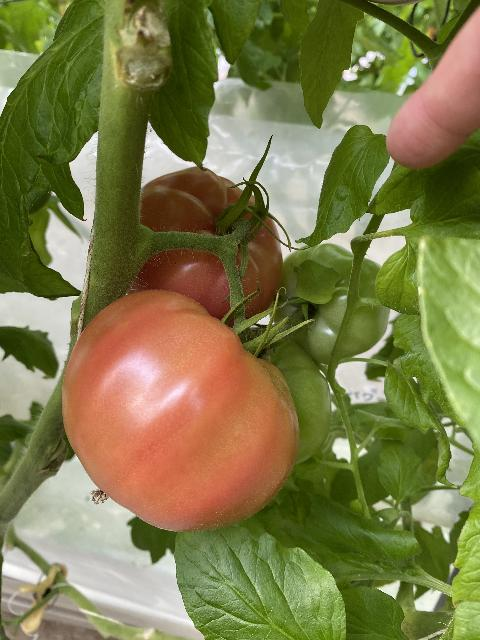b_fully_ripened: (121, 166, 283, 328)
b_green: (271, 242, 392, 366), (245, 336, 332, 468)
b_half_ripened: (60, 289, 300, 533)
